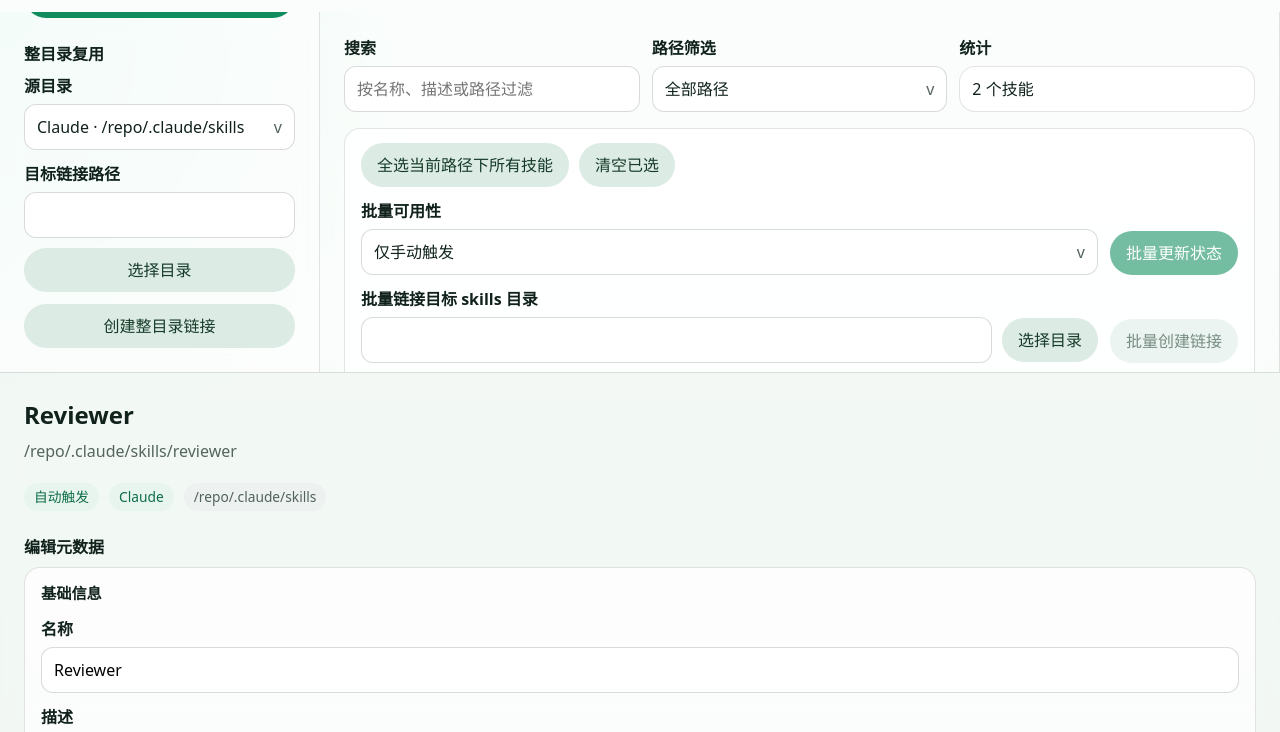
it: App › fills the root link target path from the directory picker dialog
(page scrolled)
What coordinates should you click on to do the following:
click the button with id "pick-root-target-directory-button"
I would click on:
 (160, 270)
Its box is x1=24 y1=248 x2=295 y2=292.
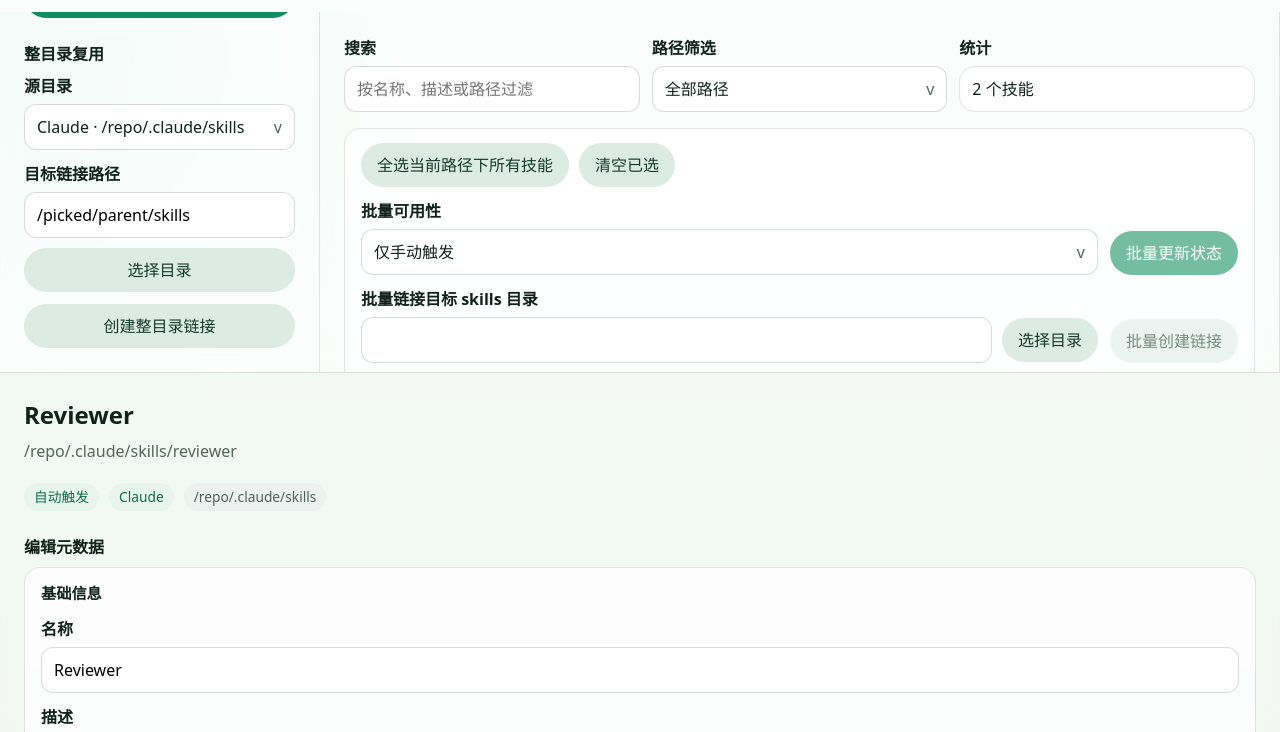
Expected: the field with id "target-root" holds "/picked/parent/skills", x1=24 y1=192 x2=295 y2=238
